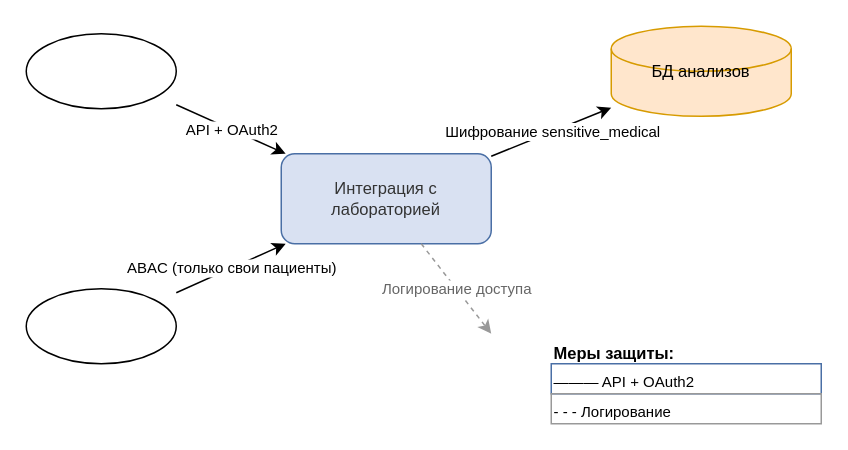
Image size: 848x450. Some labels were removed from this diagram. The centre of each missing label's shape, as x and y in pixels:
Врач: point 100,325
Лаборатория: point 100,70
